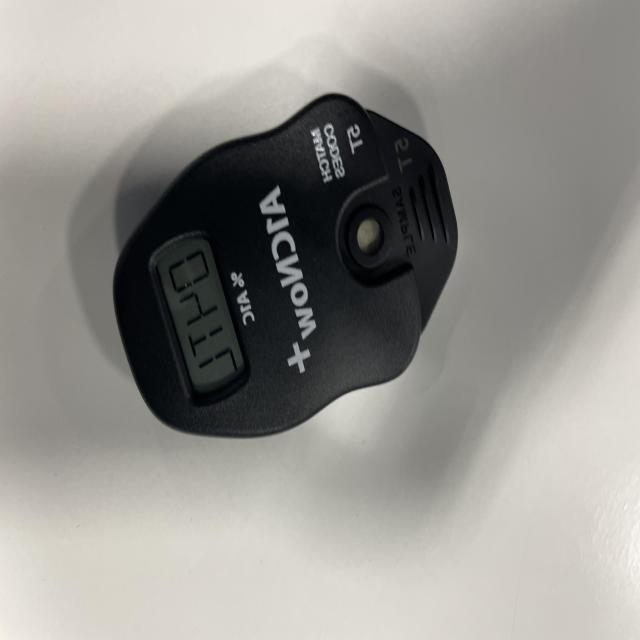hba1c: (111, 93, 459, 443)
